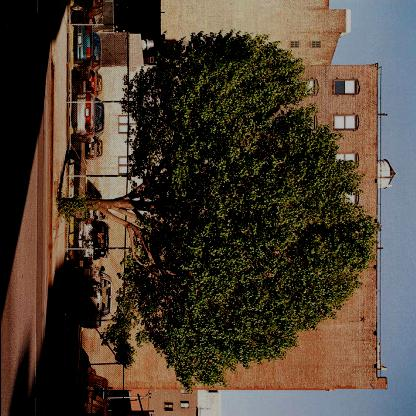Tree: (55, 32, 382, 392)
